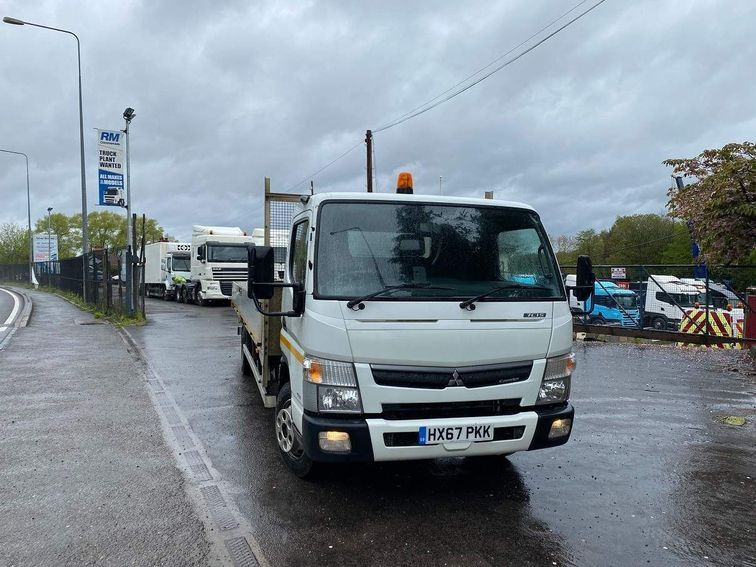Semi: (231, 176, 577, 479), (184, 224, 248, 305)
